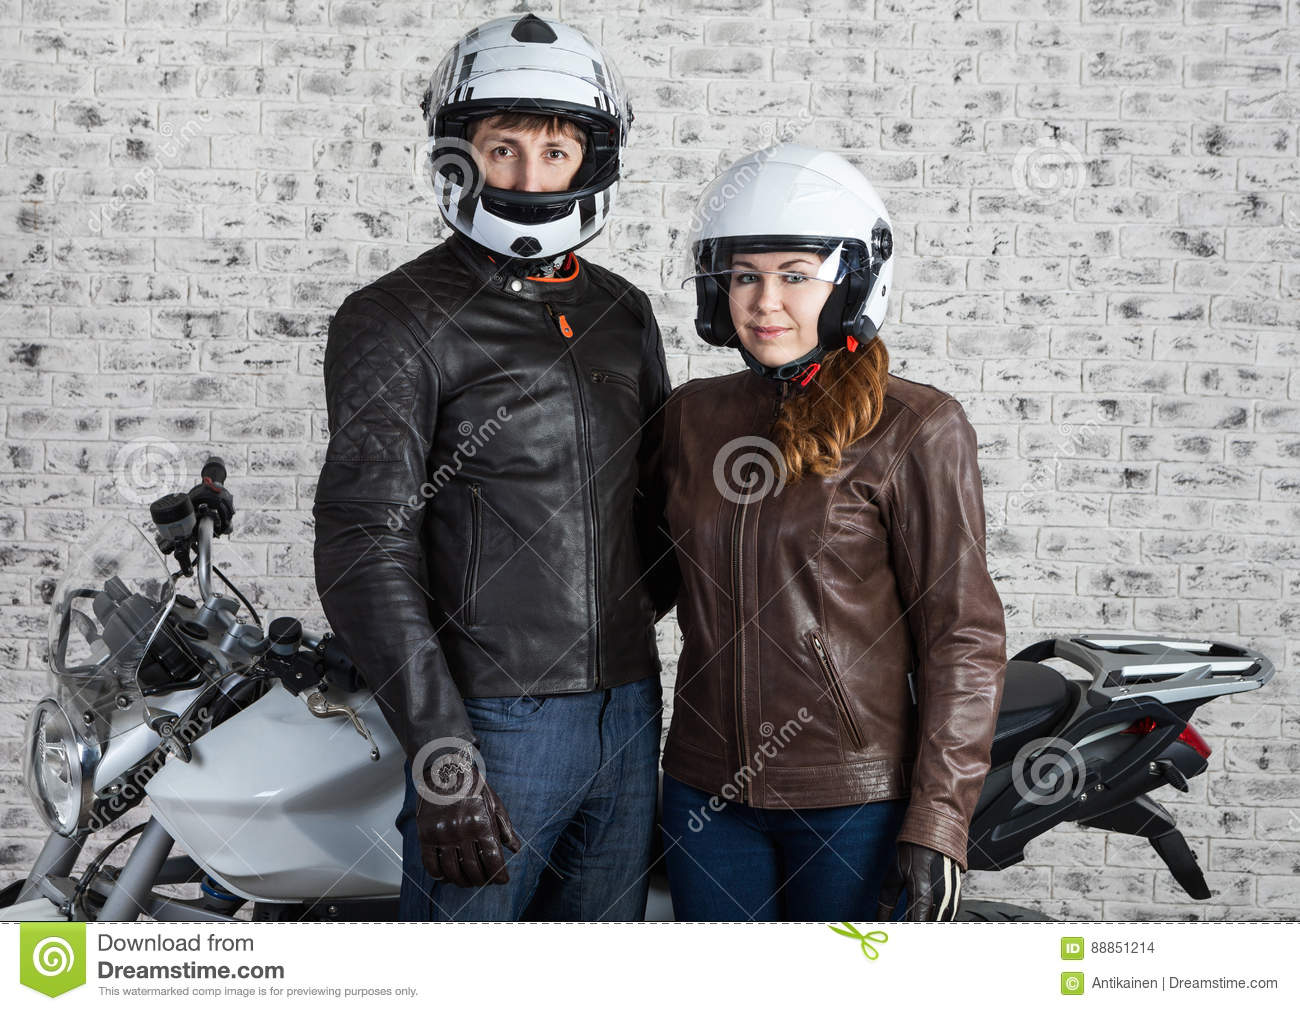helmet: (438, 30, 649, 257), (674, 159, 909, 344)
